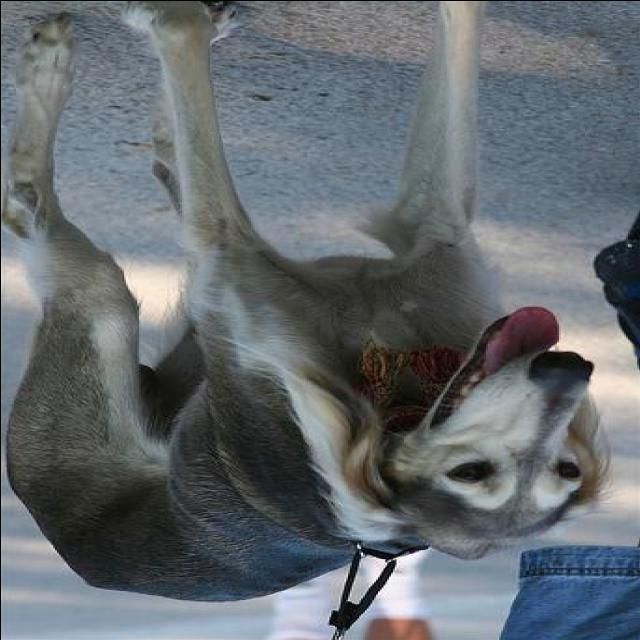saluki: (0, 2, 610, 606)
